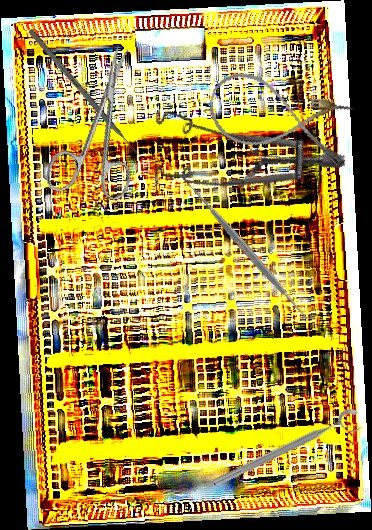Cannula: (201, 65, 357, 172)
Fixation Ring: (209, 405, 366, 500)
Iris Scissors: (42, 35, 166, 211)
Pusher: (27, 28, 147, 164)
Spatula Surgical: (180, 175, 319, 330)
Speculum: (126, 49, 350, 238)
